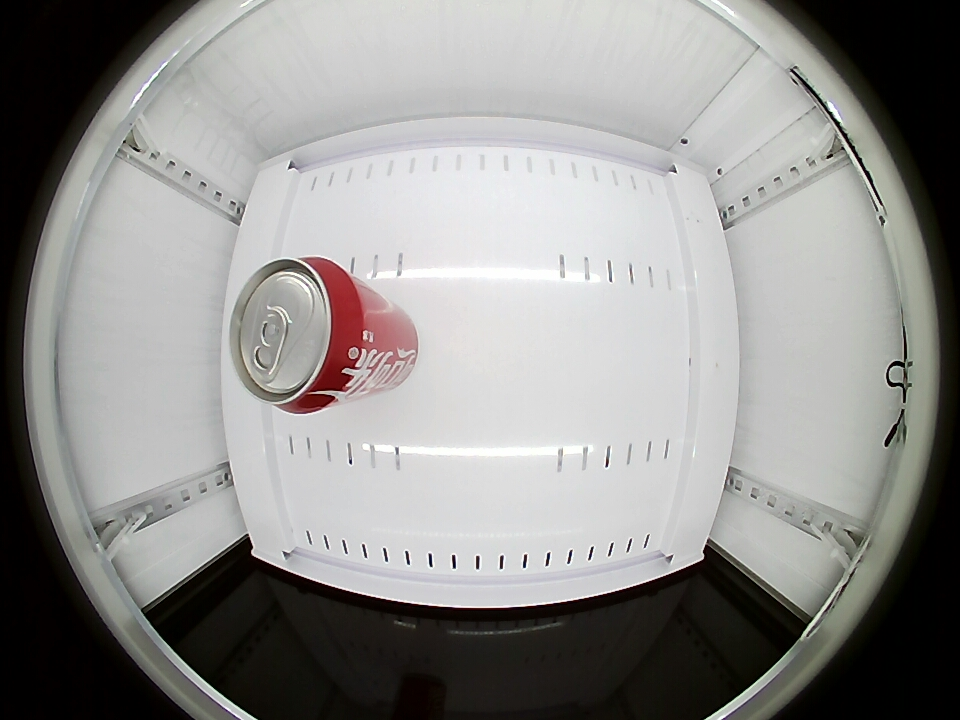kele: (230, 256, 366, 413)
